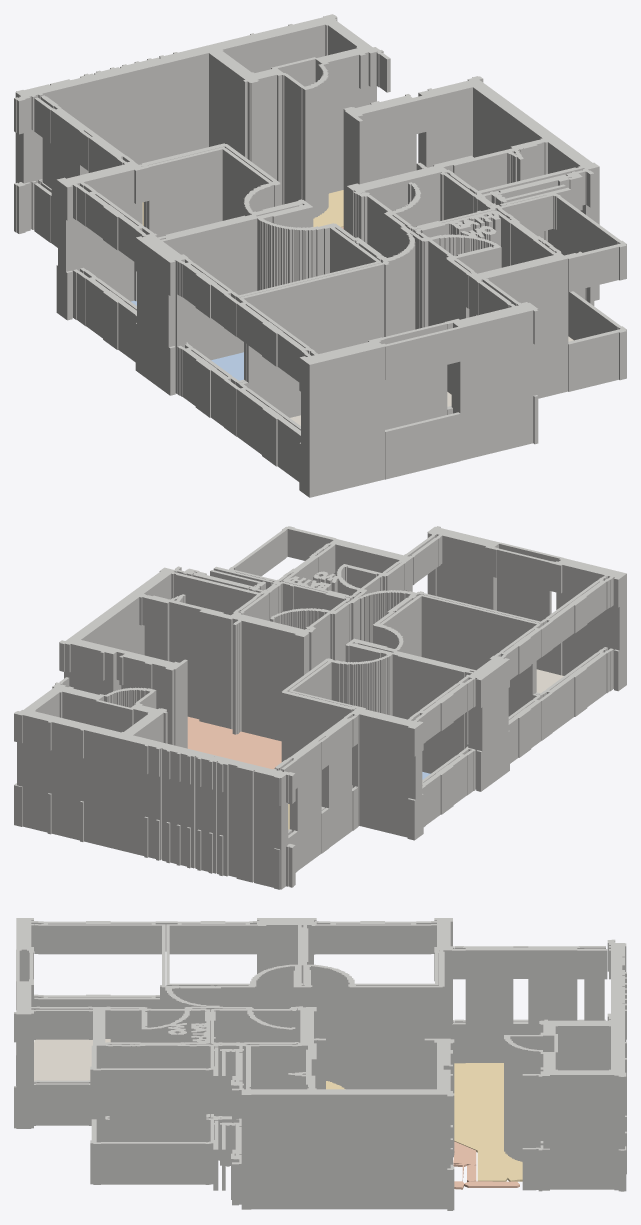
The picture shows the model from 3 angles, top to bottom: view 1: azimuth 30°, elevation 25°; view 2: azimuth 150°, elevation 25°; view 3: azimuth 270°, elevation 25°; orthographic projection. The views are drawn at different scales.
Visible parts, largest first — view 1: walls, room:living:0; view 2: walls, room:kitchen:1; view 3: walls, room:living:0, room:other:9, room:kitchen:1.
Part boxes in pixels (box(x1,y1,x2,y2)): walls: box(14, 14, 626, 497); room:living:0: box(142, 190, 343, 227); walls: box(14, 526, 626, 889); room:kitchen:1: box(187, 716, 281, 769); walls: box(14, 918, 626, 1210); room:living:0: box(326, 1063, 522, 1181); room:other:9: box(34, 1039, 110, 1080); room:kitchen:1: box(453, 1141, 519, 1189).
Bounding box in the file's own units: 9.33 × 2.8 × 13.56.
